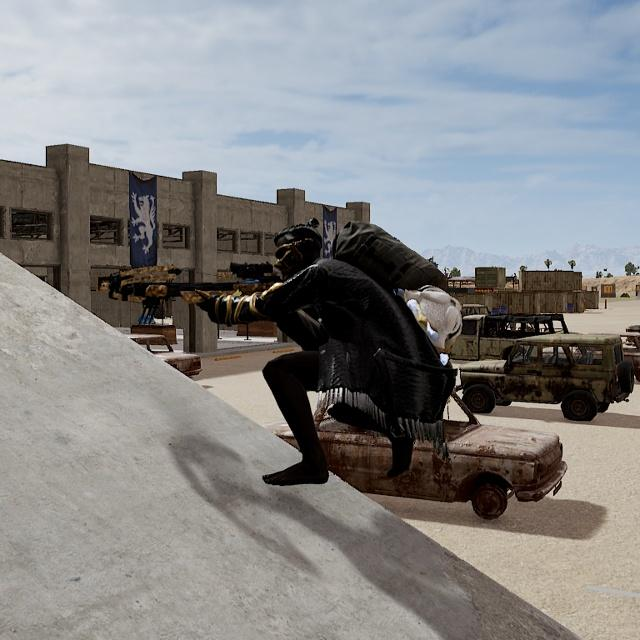head: (263, 213, 326, 283)
people: (216, 211, 448, 499)
